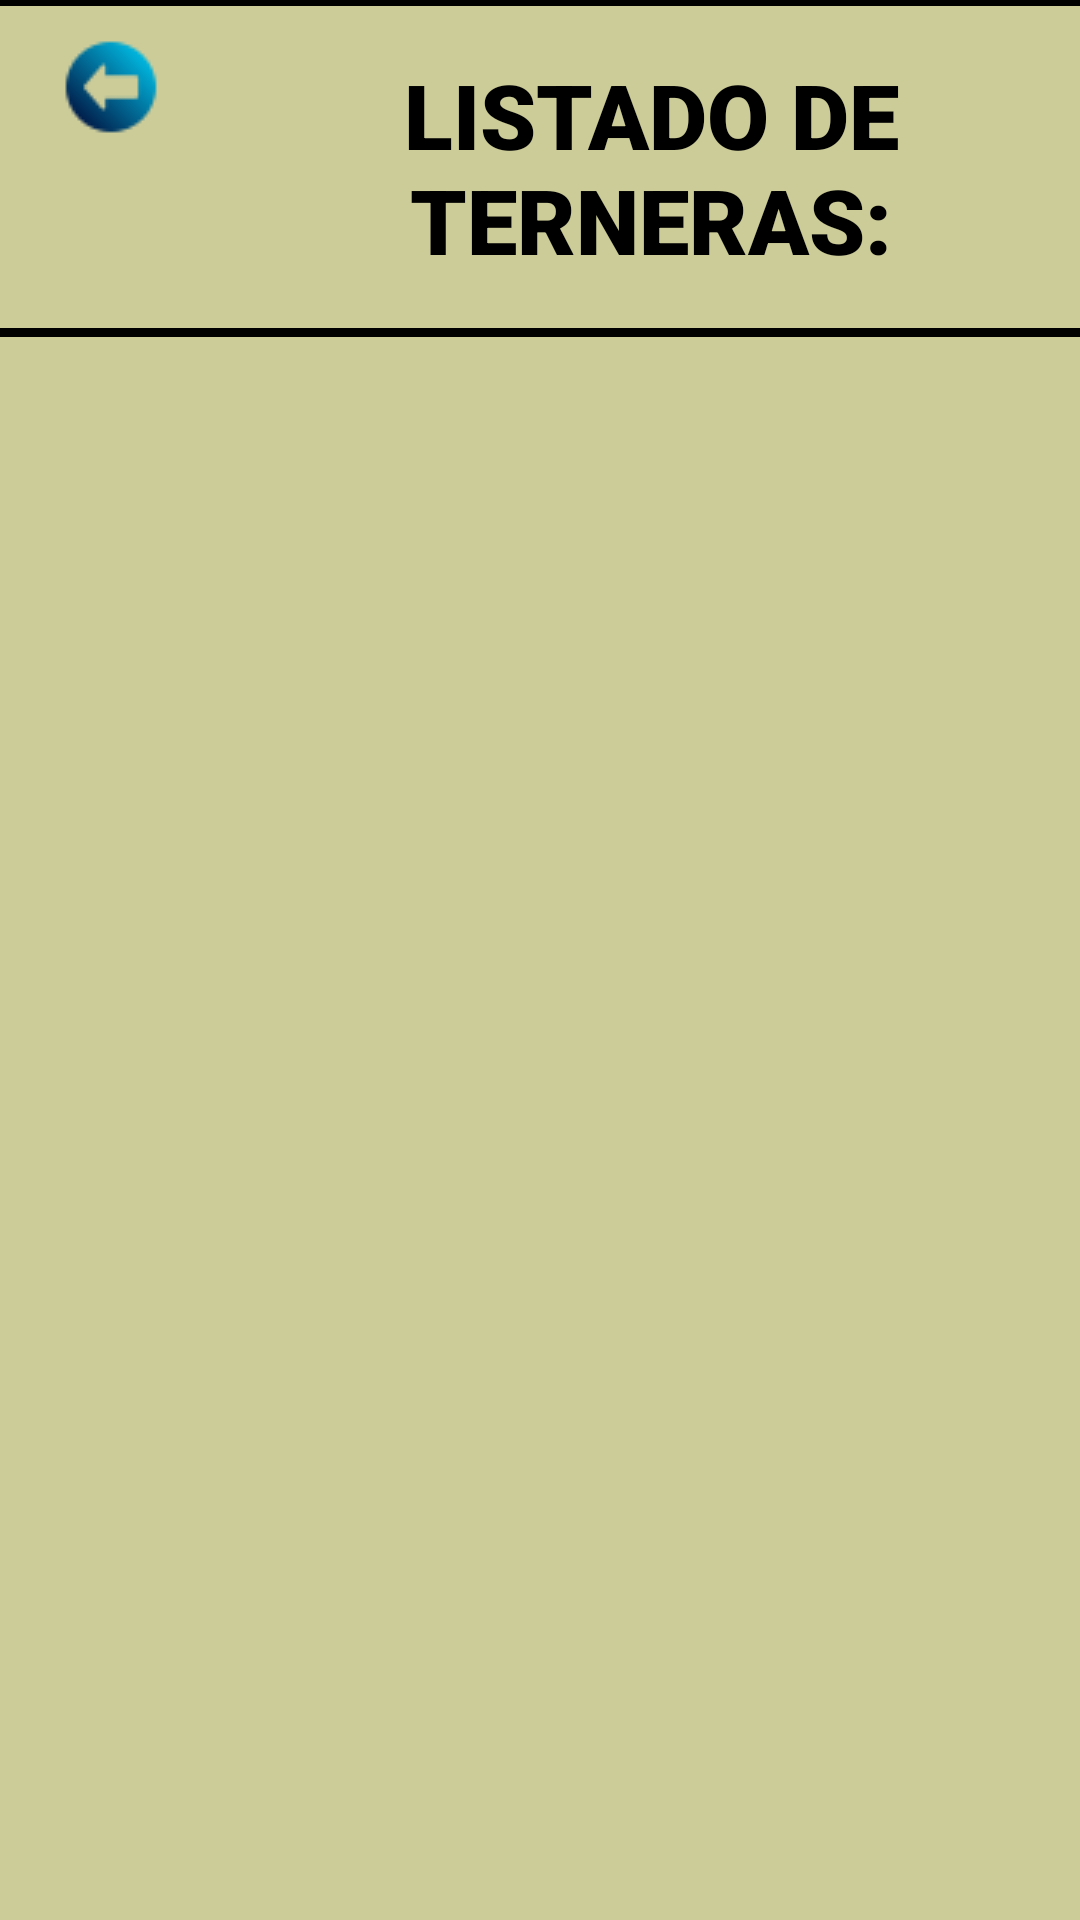

Where to tap for icons on this 1080*1920 app screen, as (x=x, y=y):
back: (x=111, y=87)
